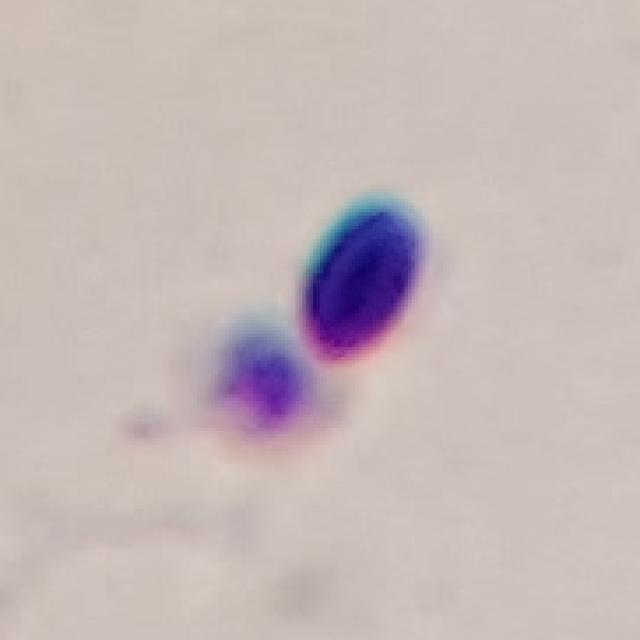non-sperm: (216, 192, 444, 446)
